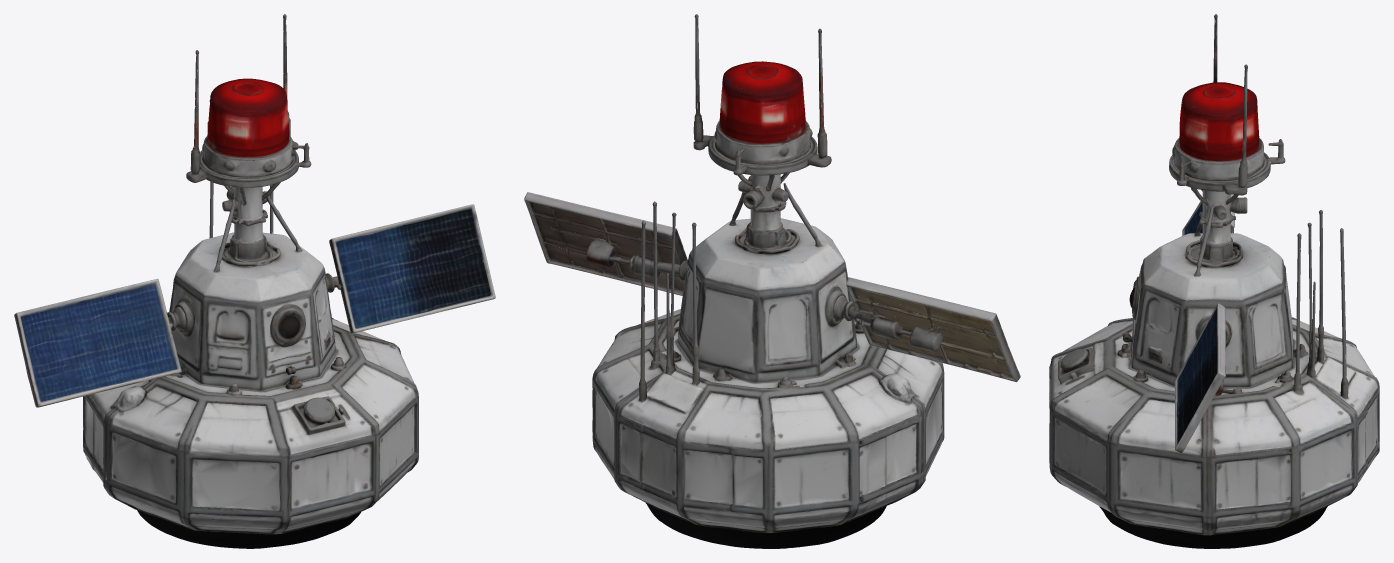
The model's file is helios_buoy.glb.
3 views of the same model, side by side, from view 1: azimuth 30°, elevation 25°; view 2: azimuth 150°, elevation 25°; view 3: azimuth 270°, elevation 25° (orthographic). The views are drawn at different scales.
Parts seen in each view (by area): view 1: buoy; view 2: buoy; view 3: buoy.
Part boxes in pixels (x1,y1,x2,y2): buoy: (14, 14, 495, 548); buoy: (524, 14, 1020, 548); buoy: (1049, 14, 1379, 548).
Bounding box in the file's own units: 1.64 × 1.6 × 1.04.
1 material, 1 textured.
